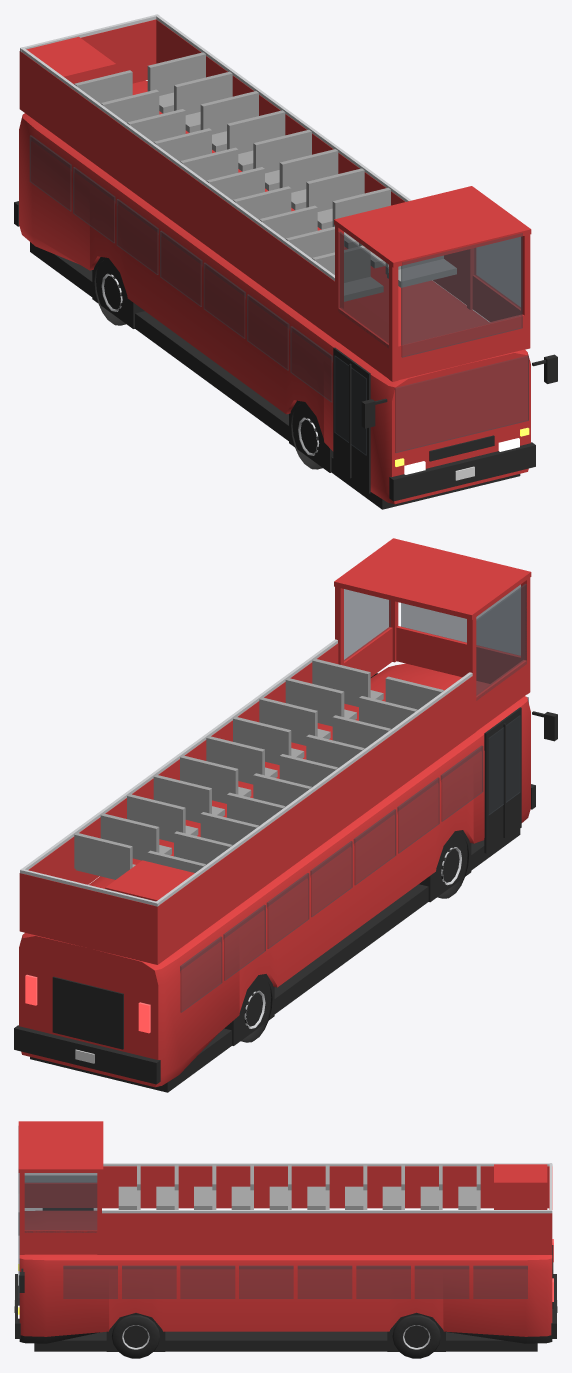
Rendered from bus_tour.glb.
The picture shows the model from 3 angles, top to bottom: view 1: azimuth 30°, elevation 25°; view 2: azimuth 150°, elevation 25°; view 3: azimuth 270°, elevation 25°; orthographic projection. The views are drawn at different scales.
Visible parts, largest first — view 1: body; view 2: body; view 3: body, wheel_rr, wheel_fr.
Part boxes in pixels (left/top/right/bottom): body: left=14, top=14, right=557, bottom=509; body: left=14, top=538, right=557, bottom=1092; body: left=14, top=1121, right=557, bottom=1351; wheel_rr: left=392, top=1315, right=440, bottom=1358; wheel_fr: left=111, top=1315, right=159, bottom=1358.
Size of the model in its own units: 3.29 by 4.29 by 11.24.
